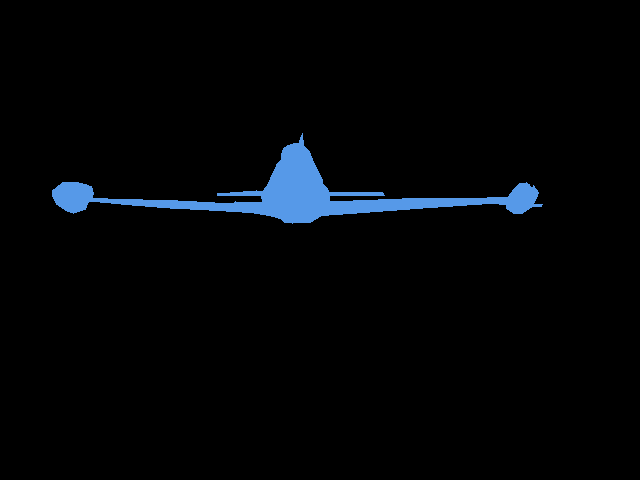Airplane: (52, 133, 542, 223)
